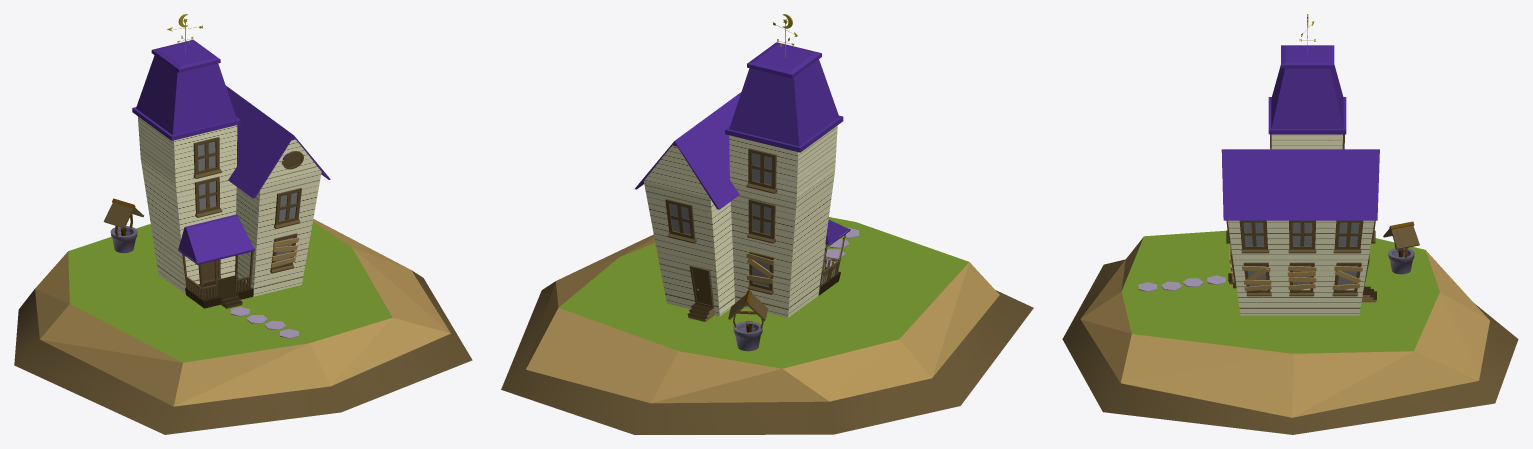
The model's file is haunted_house.glb.
3 views of the same model, side by side, from view 1: azimuth 30°, elevation 25°; view 2: azimuth 150°, elevation 25°; view 3: azimuth 270°, elevation 25° (orthographic). The views are drawn at different scales.
Visible parts, largest first — view 1: Plane001; view 2: Plane001; view 3: Plane001.
Part boxes in pixels (x1=…): Plane001: x1=14, y1=14, x2=472, y2=434; Plane001: x1=501, y1=14, x2=1033, y2=434; Plane001: x1=1062, y1=14, x2=1518, y2=434.
Bounding box in the file's own units: 25.37 × 19.22 × 25.69.
6 materials, 3 textured.
